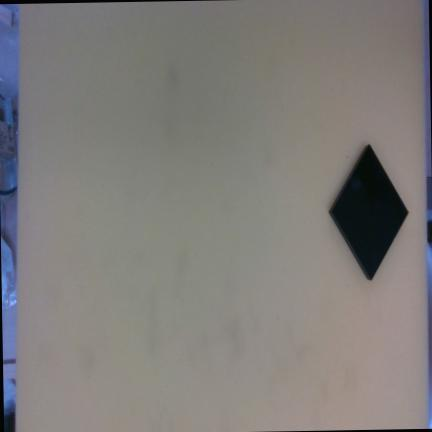tile: (312, 143, 427, 281)
